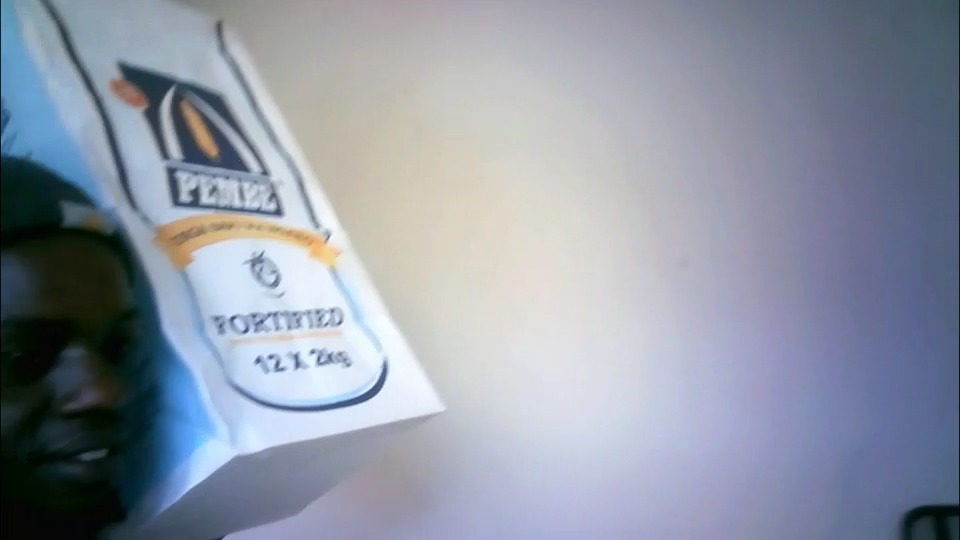wheat_flour_blue_label: (0, 0, 444, 540)
